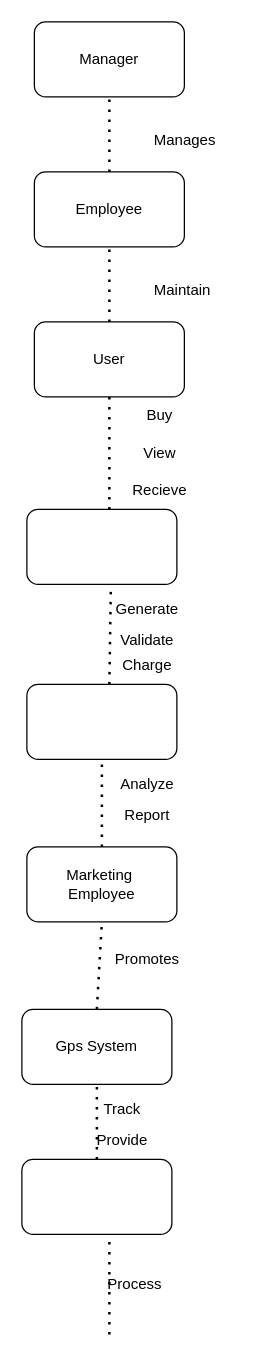
Some shapes in this 269 by 1359 pixel diagram are drawn without their labels. Each missing label, with the centre of its shape:
Economist: (101,721)
Payment system: (96,1196)
Ticket System: (101,546)
